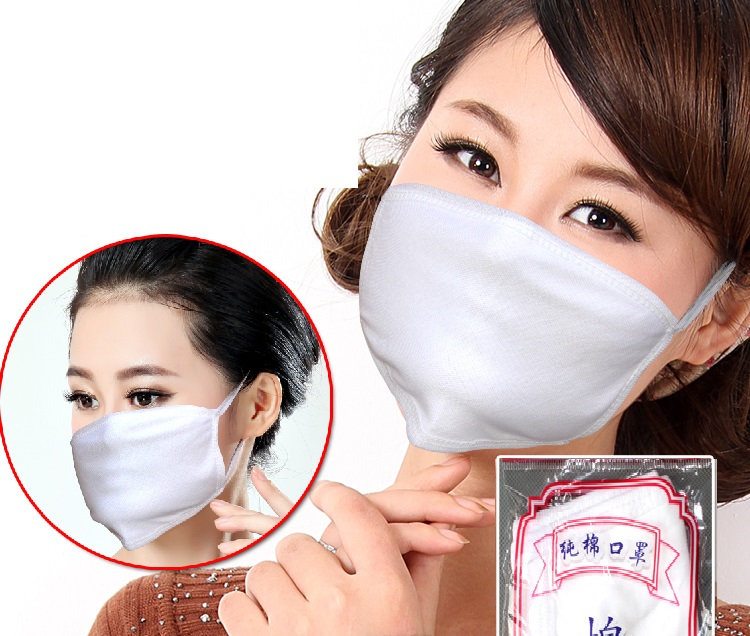face_mask: (353, 14, 699, 431), (61, 300, 212, 536)
